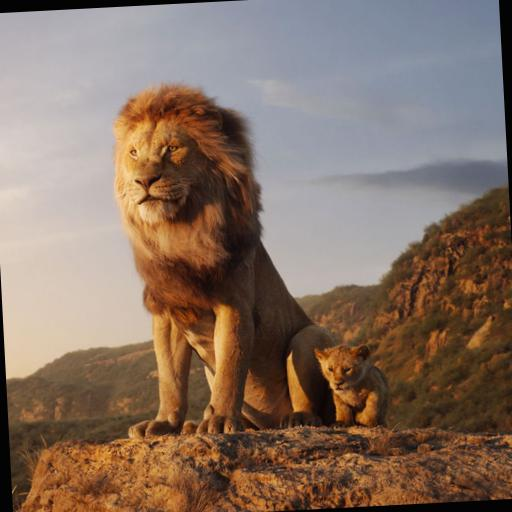lions: (72, 61, 396, 461)
